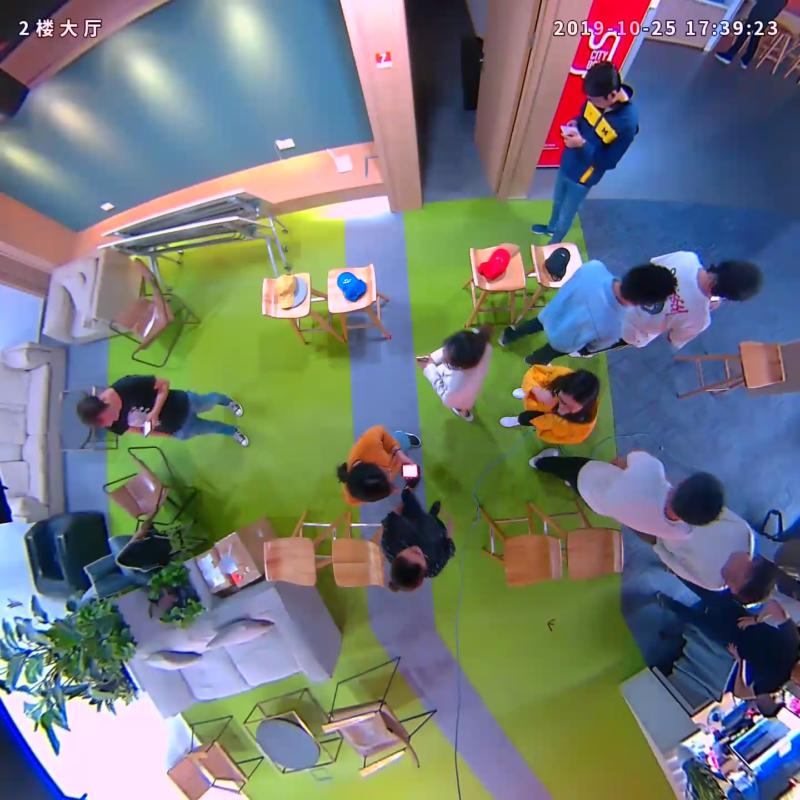head: (668, 471, 725, 527), (720, 555, 777, 605), (620, 262, 678, 308), (709, 260, 762, 303), (556, 369, 601, 414), (582, 59, 620, 108), (390, 543, 428, 592), (344, 462, 390, 502), (441, 330, 486, 370), (77, 394, 120, 429)
